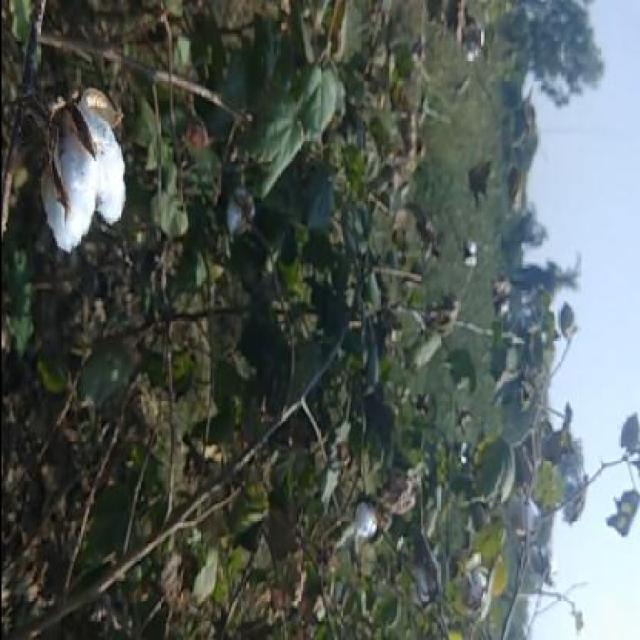cotton_ready: (19, 85, 130, 263)
